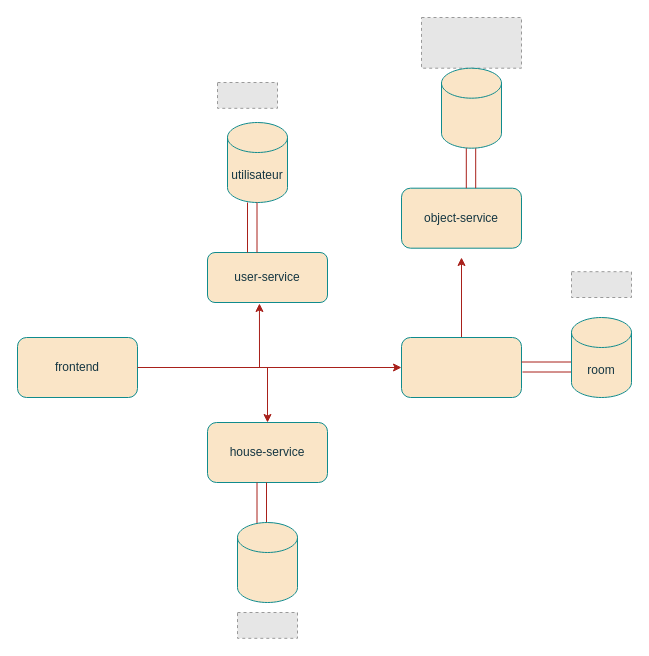
This 649x656 diagram has some shape labels left out. Grey dashed boxes stand in for pictures. Each missing label, with the box of its shape:
house: (236, 522, 298, 602)
object: (440, 67, 502, 148)
room-service: (400, 336, 522, 398)
